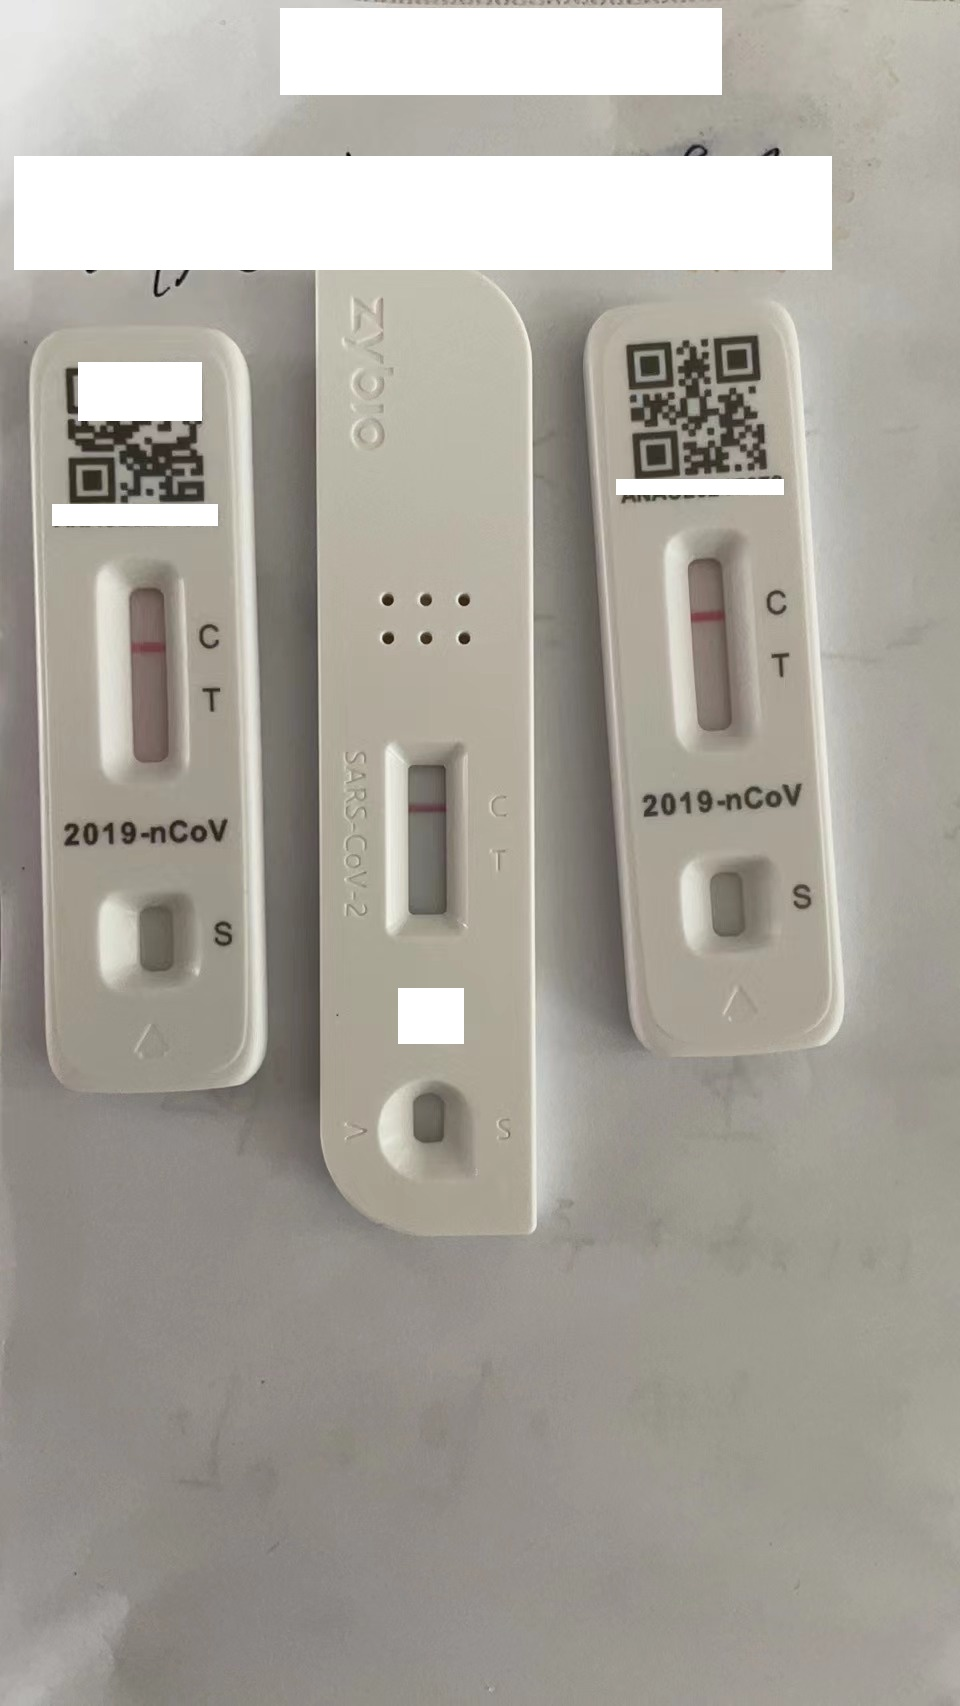negative: (94, 557, 188, 790), (665, 528, 755, 751), (390, 731, 467, 942)
